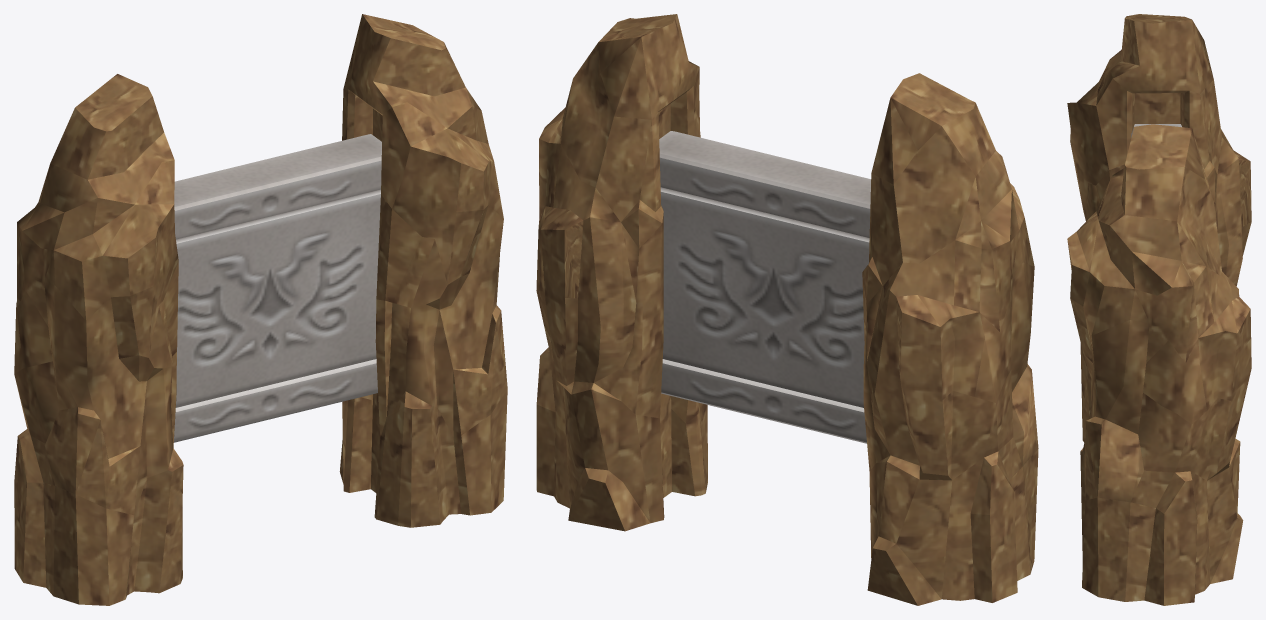
The model's file is Stone_door01.fbx.
The picture shows the model from 3 angles, left to right: view 1: azimuth 30°, elevation 25°; view 2: azimuth 150°, elevation 25°; view 3: azimuth 270°, elevation 25°; orthographic projection. The views are drawn at different scales.
Parts seen in each view (by area): view 1: Rock, StoneDoor; view 2: Rock, StoneDoor; view 3: Rock.
Boxes of the visible parts, box(x1,y1,x2,y2) form: Rock: box(14, 14, 507, 605); StoneDoor: box(174, 134, 381, 442); Rock: box(536, 14, 1038, 605); StoneDoor: box(659, 131, 870, 443); Rock: box(1067, 14, 1251, 605).
Bounding box in the file's own units: 9.27 × 9 × 3.5.
